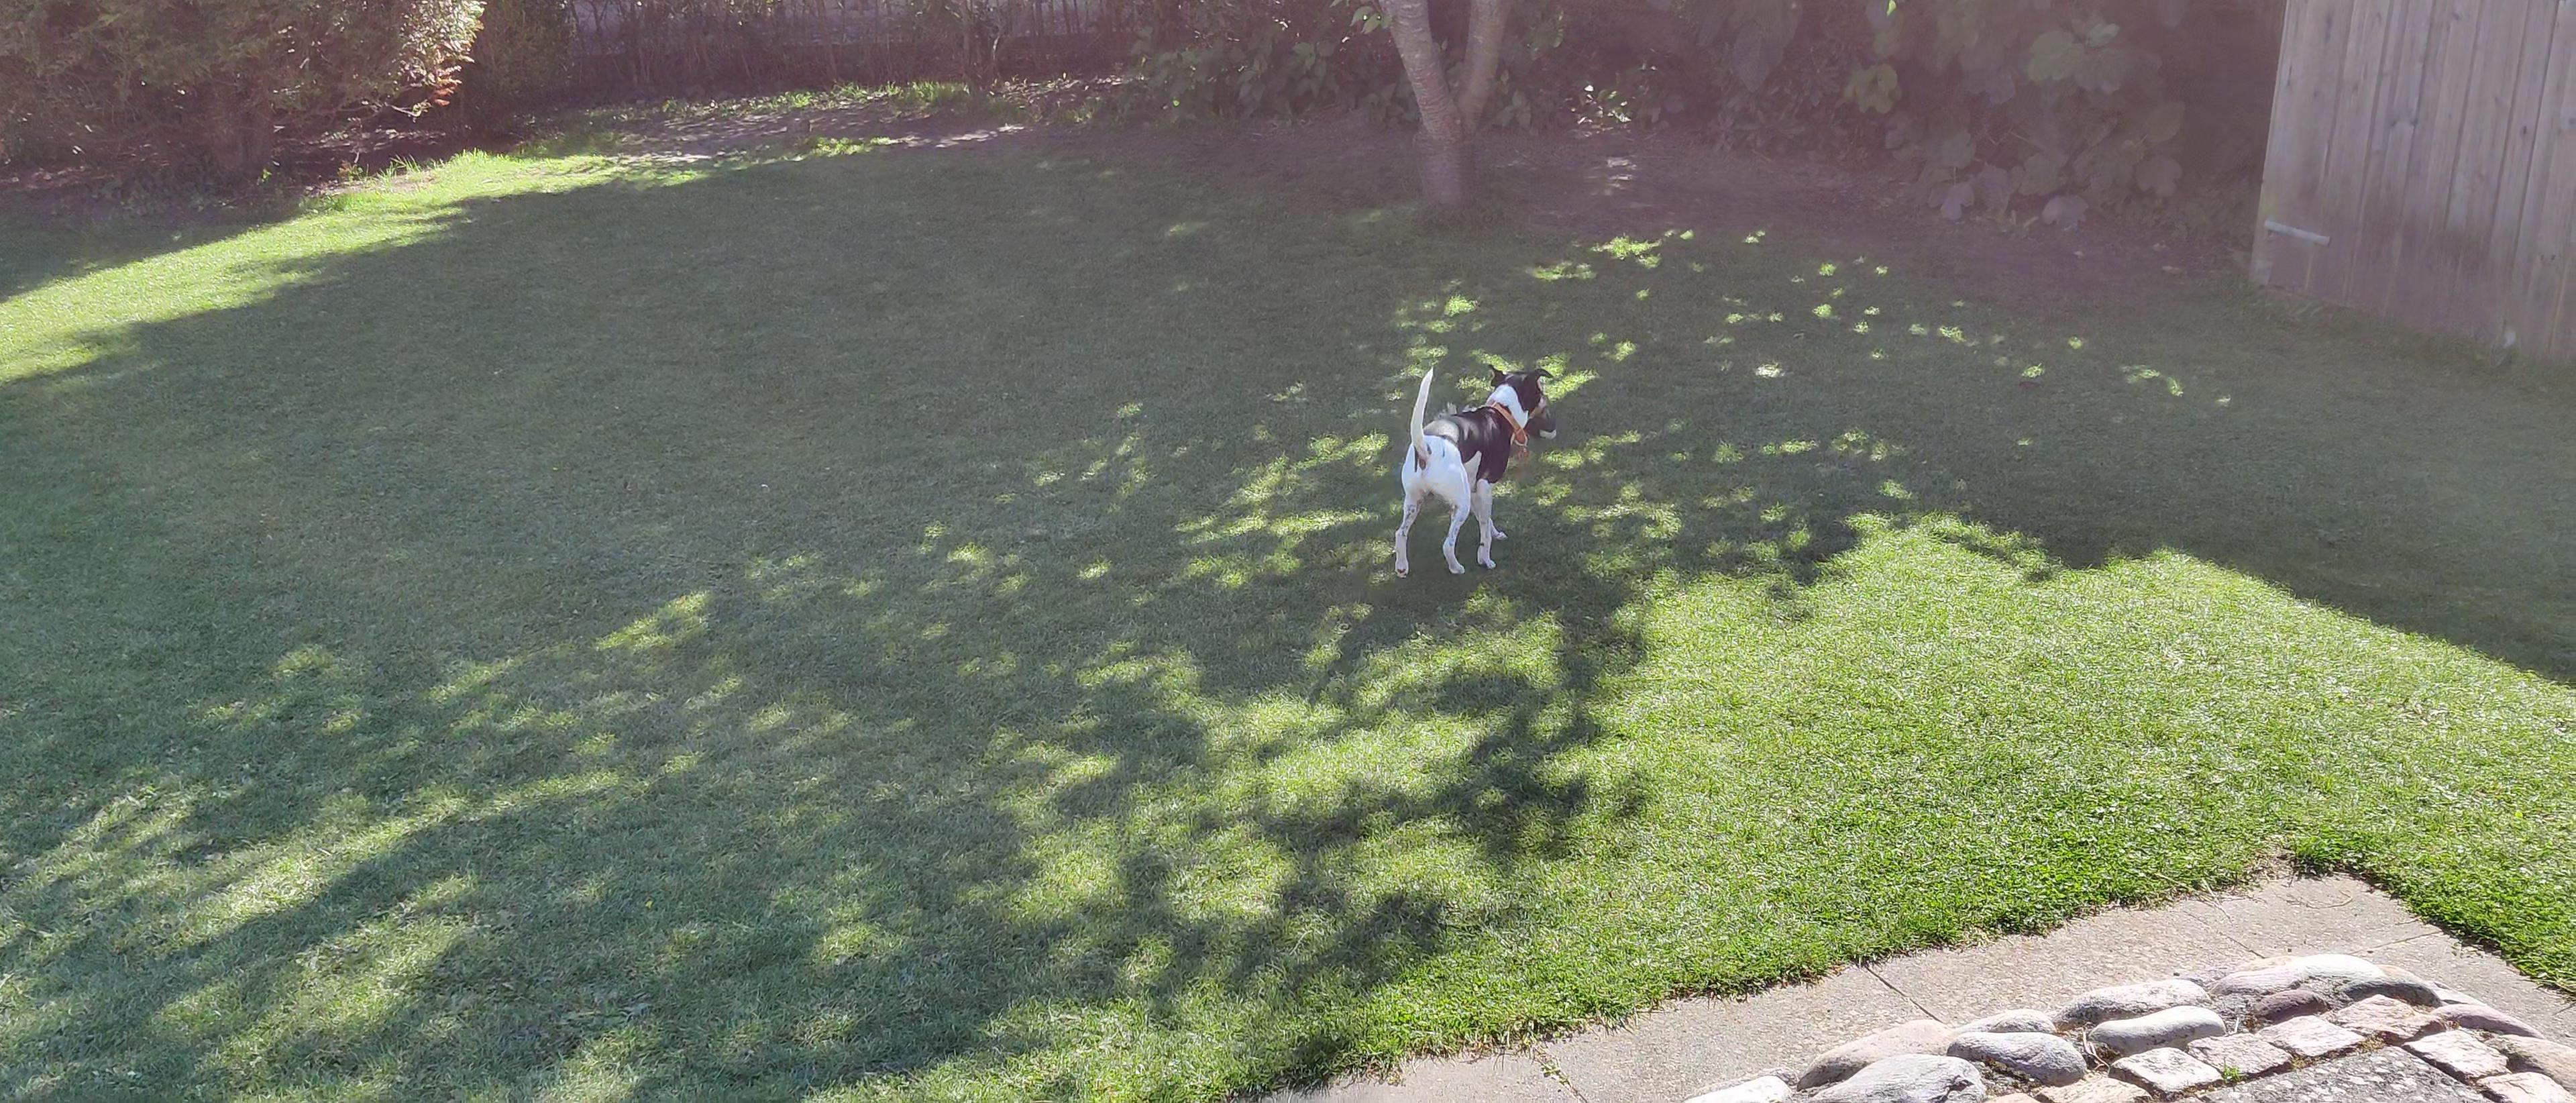Dog: (1390, 363, 1554, 580)
